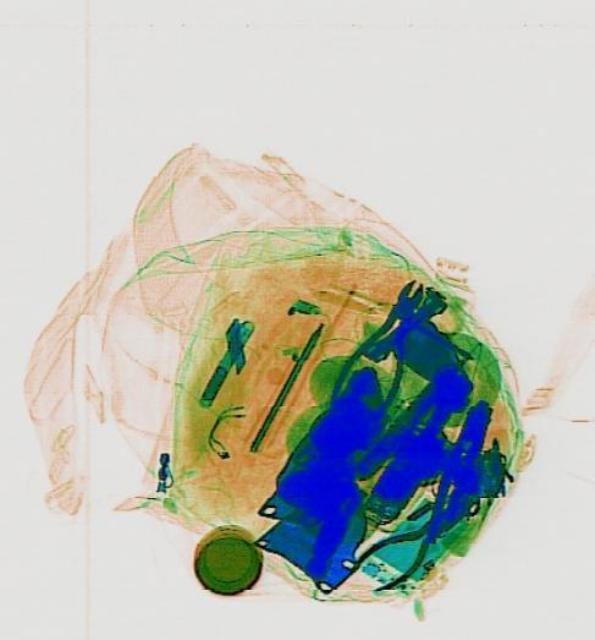Pliers: (320, 264, 444, 433), (346, 483, 484, 599)
